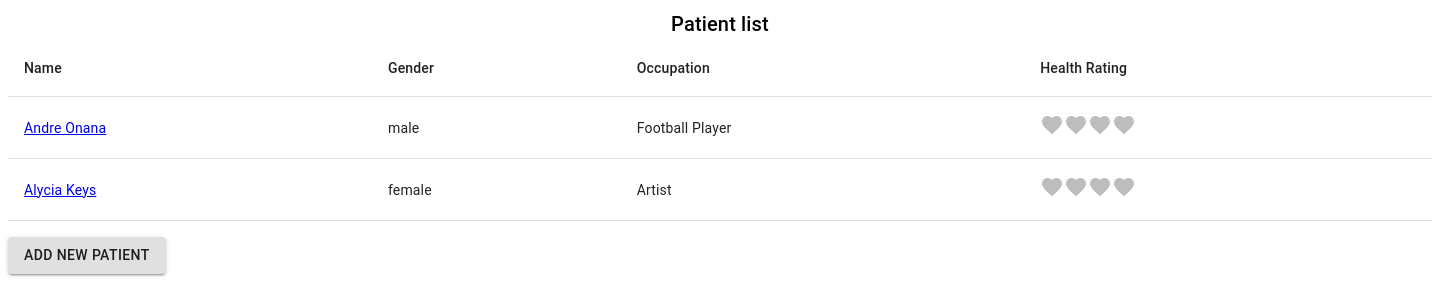
<PatientListPage /> for non logged in users › clicking add new patient button navigates to the login page
The image size is (1440, 294).
Expected: the text "Add New Patient" is shown, [24,243,150,268]
Click the button "Add New Patient" at (87, 255), box [8,237,166,274]
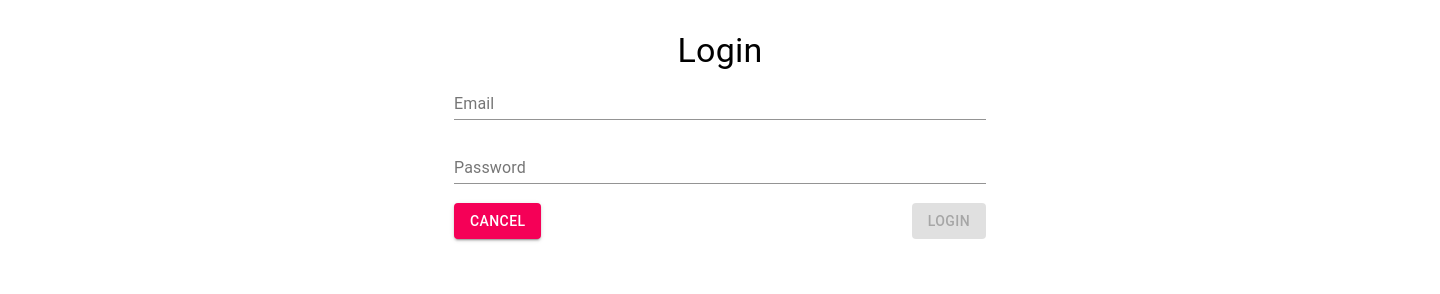
Expected: the heading reads "Login", [678,30,763,70]
Expected: the button "Login" is shown, [912,203,986,240]
